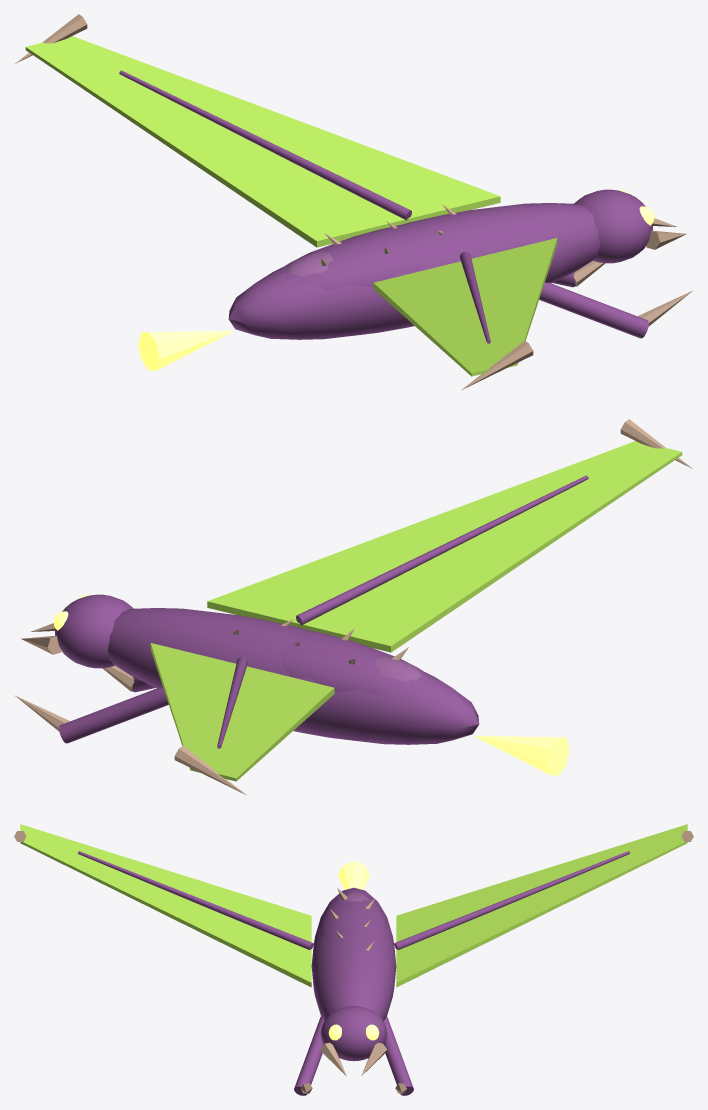
Rendered from ins_fighter.glb.
The picture shows the model from 3 angles, top to bottom: view 1: azimuth 30°, elevation 25°; view 2: azimuth 150°, elevation 25°; view 3: azimuth 270°, elevation 25°; orthographic projection. The views are drawn at different scales.
Visible parts, largest first — view 1: wing_l_m, ins_fighter, wing_r_m; view 2: wing_r_m, ins_fighter, wing_l_m; view 3: ins_fighter, wing_l_m, wing_r_m.
Part boxes in pixels (x1=…): wing_l_m: x1=15, y1=14, x2=500, y2=247; ins_fighter: x1=138, y1=189, x2=692, y2=370; wing_r_m: x1=373, y1=238, x2=557, y2=390; wing_r_m: x1=207, y1=419, x2=692, y2=652; ins_fighter: x1=15, y1=594, x2=569, y2=775; wing_l_m: x1=150, y1=643, x2=334, y2=795; ins_fighter: x1=294, y1=861, x2=413, y2=1095; wing_l_m: x1=394, y1=824, x2=693, y2=987; wing_r_m: x1=14, y1=824, x2=313, y2=987.
Bounding box in the file's own units: 0.8704 × 0.3225 × 1.28.
